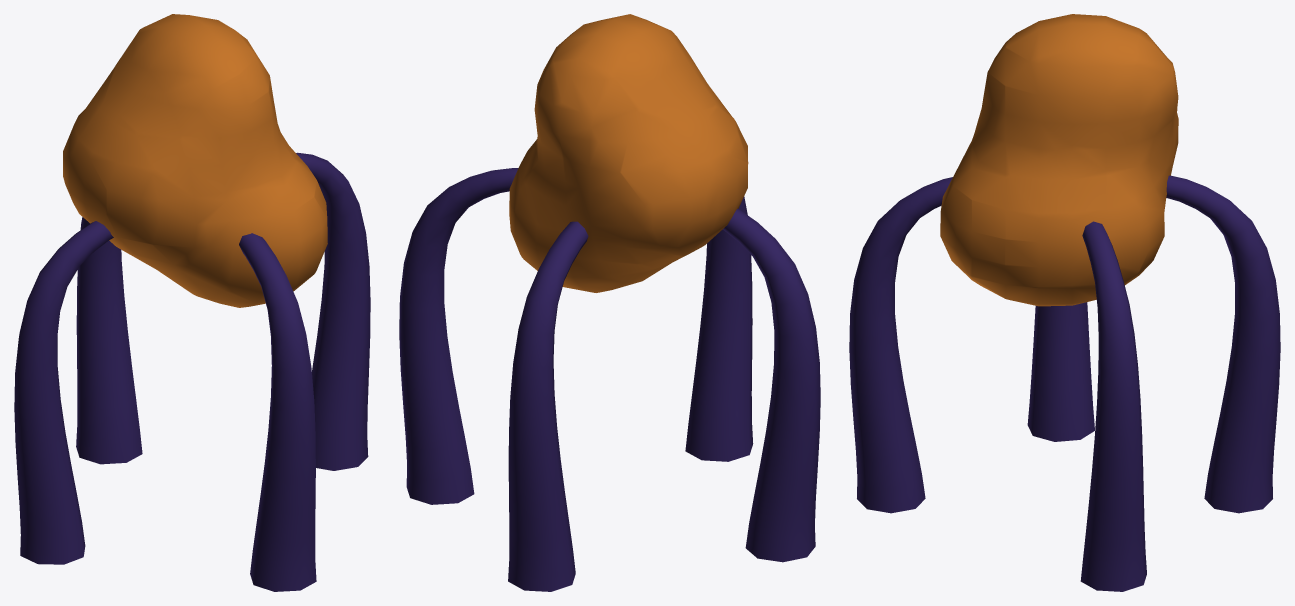
The model's file is Tree Blob.glb.
The picture shows the model from 3 angles, left to right: view 1: azimuth 30°, elevation 25°; view 2: azimuth 150°, elevation 25°; view 3: azimuth 270°, elevation 25°; orthographic projection. The views are drawn at different scales.
Parts seen in each view (by area): view 1: Tree_Blob_3; view 2: Tree_Blob_3; view 3: Tree_Blob_3.
Boxes of the visible parts, left/top/right/bottom form: Tree_Blob_3: left=14, top=14, right=370, bottom=591; Tree_Blob_3: left=399, top=14, right=820, bottom=591; Tree_Blob_3: left=849, top=14, right=1280, bottom=591.
Size of the model in its own units: 2.8 by 3.42 by 2.77.
Materials: 1 (1 with a texture image).
